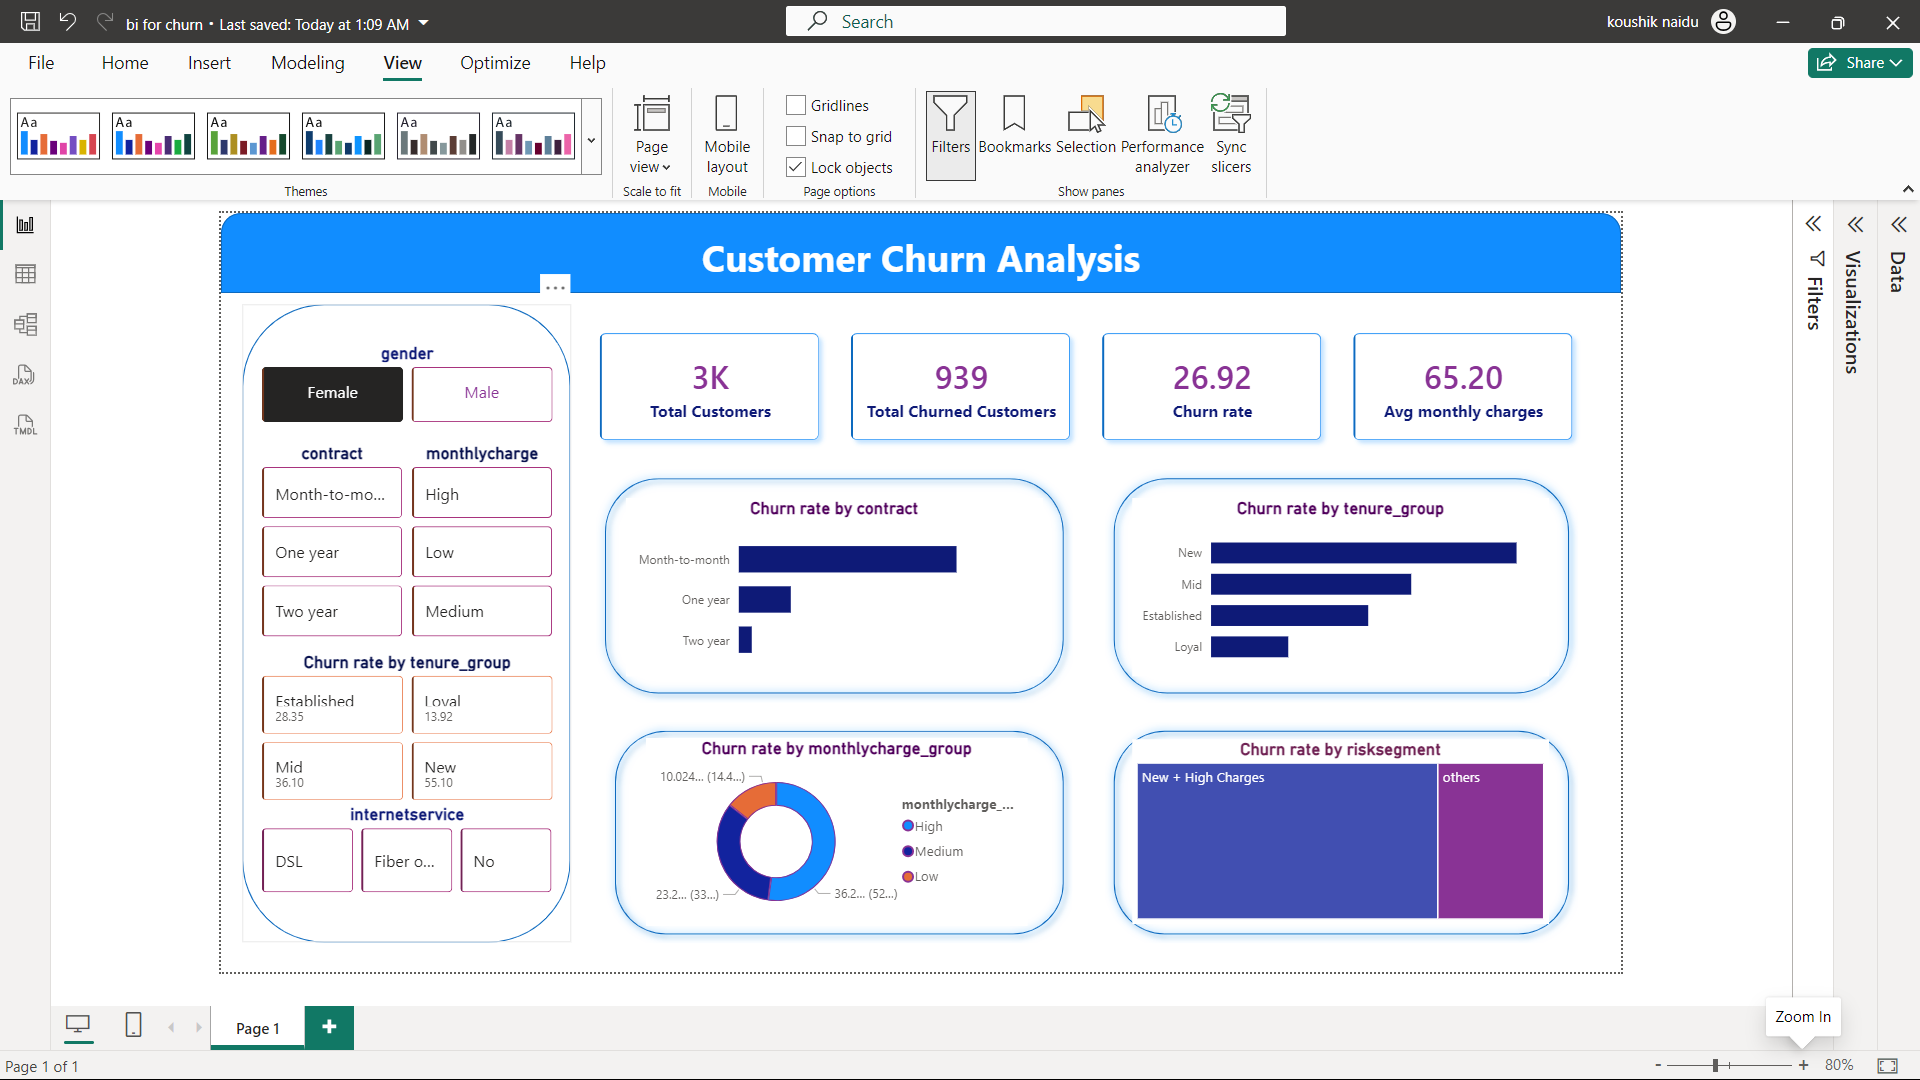

This screenshot's page, from the dashboard's own definition file:
{"tool":"powerbi","page":{"name":"Page 1","canvas":[1400,759],"ordinal":0},"visuals":[{"type":"cardVisual","fields":{"Data":["cleaned_data.Total Customers","cleaned_data.Total Churned Customers","cleaned_data.Churn rate","cleaned_data.Avg monthly charges"]},"box":[350,91.7,1031.7,165],"z":0},{"type":"shape","box":[0,0,1400,80],"z":1000},{"type":"textbox","box":[0,13.3,1400,66.7],"z":2000},{"type":"shape","box":[375,256.7,476.7,233.3],"z":3000},{"type":"shape","box":[883.3,508.3,473.3,221.7],"z":4000},{"type":"shape","box":[385,508.3,466.7,221.7],"z":5000},{"type":"shape","box":[883.3,256.7,473.3,233.3],"z":6000},{"type":"shape","box":[21.7,91.7,328.3,638.3],"z":7000},{"type":"clusteredBarChart","fields":{"Category":["cleaned_data.contract"],"Y":["cleaned_data.Churn rate"]},"box":[405,285,416.7,178.3],"z":8000},{"type":"clusteredBarChart","fields":{"Category":["cleaned_data.tenure_group"],"Y":["cleaned_data.Churn rate"]},"box":[911.7,285,416.7,178.3],"z":9000},{"type":"donutChart","fields":{"Y":["cleaned_data.Churn rate"],"Category":["cleaned_data.monthlycharge_group"]},"box":[425,525,381.7,188.3],"z":10000},{"type":"advancedSlicerVisual","fields":{"Values":["cleaned_data.gender"]},"box":[36.7,130,300,85],"z":12000},{"type":"advancedSlicerVisual","fields":{"Values":["cleaned_data.contract"]},"box":[36.7,230,150,198.3],"z":13000},{"type":"advancedSlicerVisual","fields":{"Values":["cleaned_data.tenure_group"],"Label":["cleaned_data.Churn rate"]},"box":[36.7,438.3,300,153.3],"z":14000},{"type":"advancedSlicerVisual","title":"monthlycharge","fields":{"Values":["cleaned_data.monthlycharge_group"]},"box":[186.7,230,150,198.3],"z":15000},{"type":"advancedSlicerVisual","fields":{"Values":["cleaned_data.internetservice"]},"box":[36.7,591.7,300,93.3],"z":16000},{"type":"treemap","fields":{"Group":["cleaned_data.risksegment"],"Values":["cleaned_data.Churn rate"]},"box":[911.7,526.7,416.7,185],"z":16001}]}

Visuals, with their boxes on the page's 1400x759 design canvas (x1, y1, x2, y2). These are canvas units, not pixel positions in the 1920x1080 screenshot, which may show the page scaled, cropped or inside an application window:
cardVisual - cleaned_data.Total Customers x cleaned_data.Total Churned Customers: 350, 92, 1382, 257
shape: 0, 0, 1400, 80
textbox: 0, 13, 1400, 80
shape: 375, 257, 852, 490
shape: 883, 508, 1357, 730
shape: 385, 508, 852, 730
shape: 883, 257, 1357, 490
shape: 22, 92, 350, 730
clusteredBarChart - cleaned_data.contract x cleaned_data.Churn rate: 405, 285, 822, 463
clusteredBarChart - cleaned_data.tenure_group x cleaned_data.Churn rate: 912, 285, 1328, 463
donutChart - cleaned_data.Churn rate x cleaned_data.monthlycharge_group: 425, 525, 807, 713
advancedSlicerVisual - cleaned_data.gender: 37, 130, 337, 215
advancedSlicerVisual - cleaned_data.contract: 37, 230, 187, 428
advancedSlicerVisual - cleaned_data.tenure_group x cleaned_data.Churn rate: 37, 438, 337, 592
"monthlycharge" advancedSlicerVisual: 187, 230, 337, 428
advancedSlicerVisual - cleaned_data.internetservice: 37, 592, 337, 685
treemap - cleaned_data.risksegment x cleaned_data.Churn rate: 912, 527, 1328, 712
